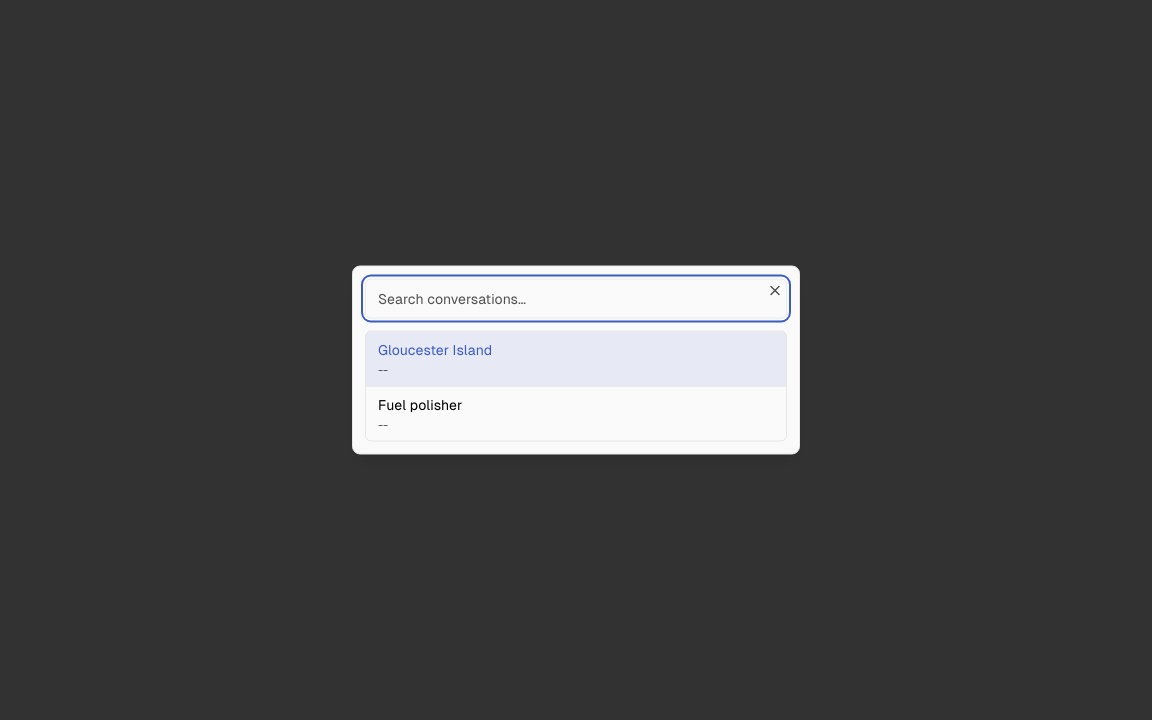
ConversationSearchOverlay server search › shows conversations whose messages match, with the snippet, and makes no request for an empty query
Type "Starboard" into the field at (576, 298), box [365,278,787,318]
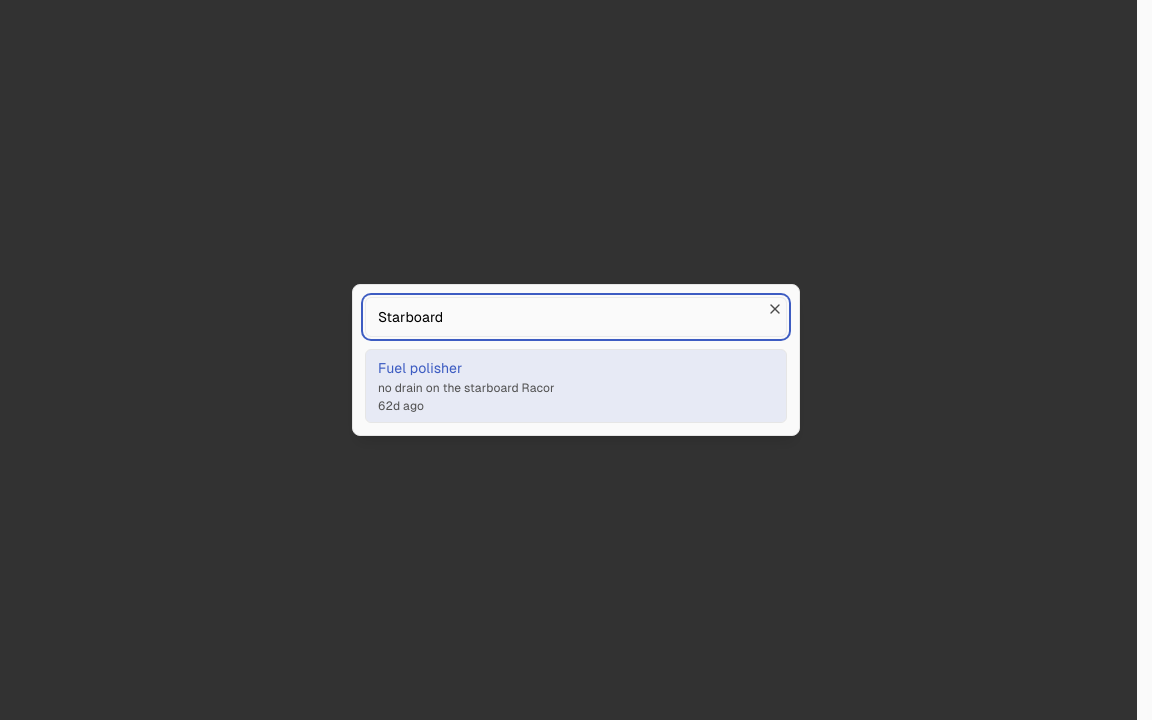
Expected: the text "Fuel polisher" is shown, [378,360,462,376]
Result: the text "no drain on the starboard Racor" is shown at [378,381,555,395]
Result: the option "Gloucester Island" is gone
